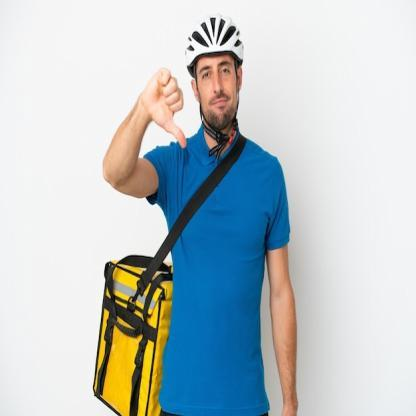thumb_down: (140, 62, 191, 150)
